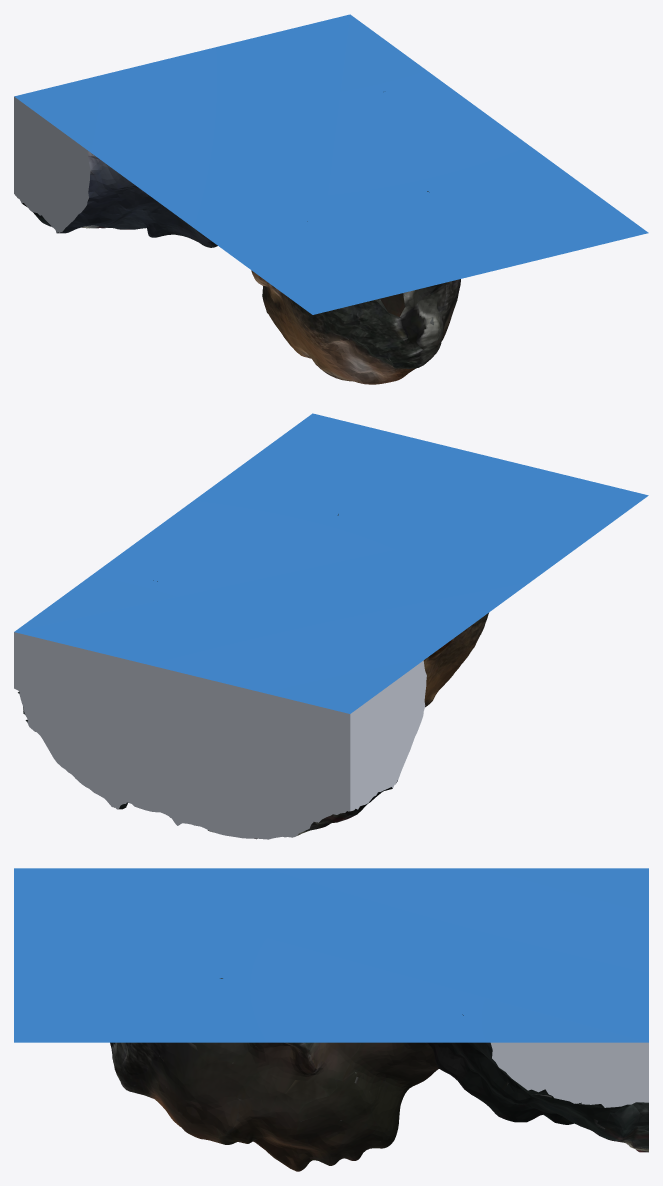
File: cut_mesh.obj
3 views of the same model, one above another, from view 1: azimuth 30°, elevation 25°; view 2: azimuth 150°, elevation 25°; view 3: azimuth 270°, elevation 25° (orthographic). The views are drawn at different scales.
Size of the model in its own units: 35.25 by 19.91 by 54.24.
1 material, 1 textured.
